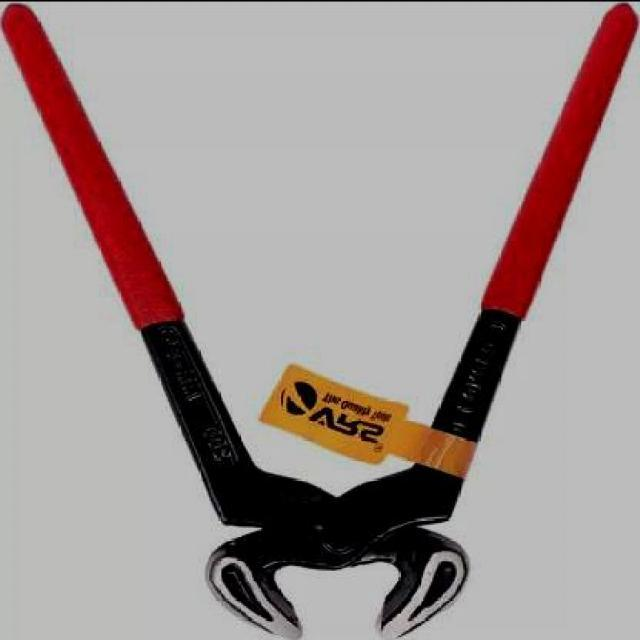pliers: (3, 0, 637, 638)
